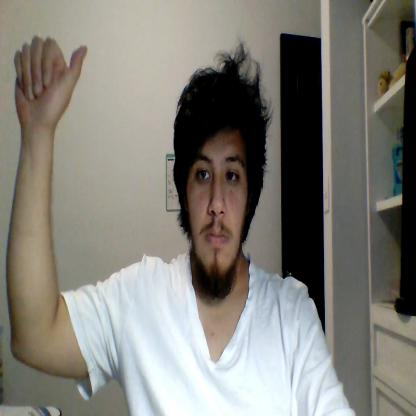A: (14, 35, 87, 129)
